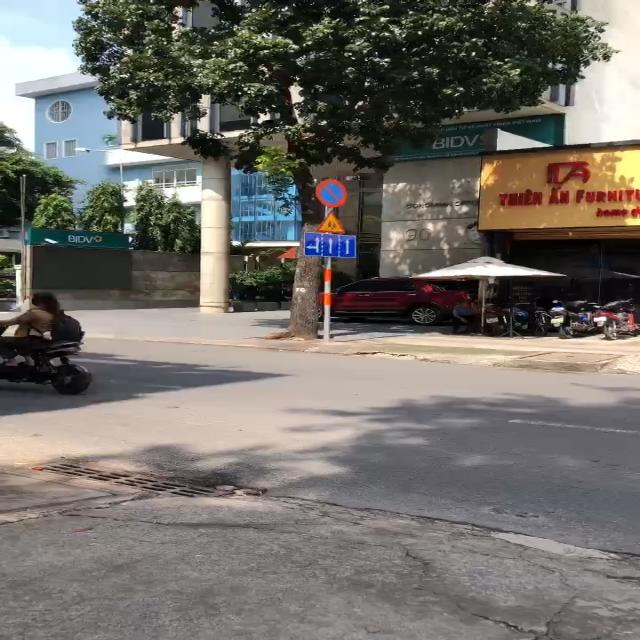Bien bao cam do xe: (310, 177, 355, 208)
Bien bao tre em: (316, 208, 352, 234)
